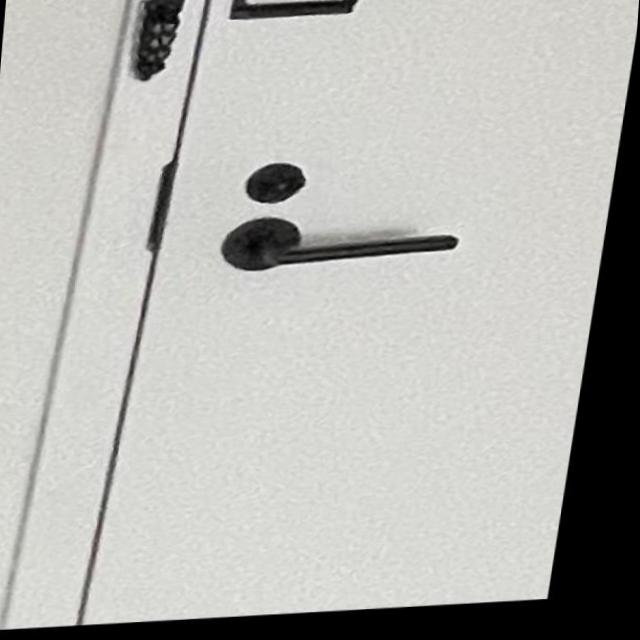door_handle: (207, 201, 504, 299)
